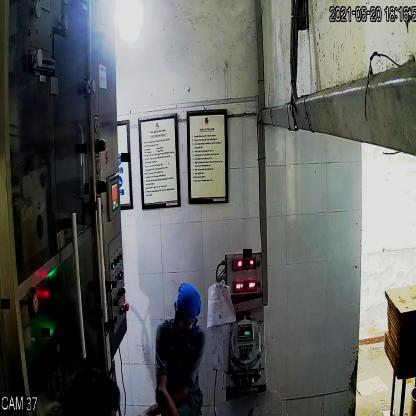goggles: (172, 310, 197, 331)
